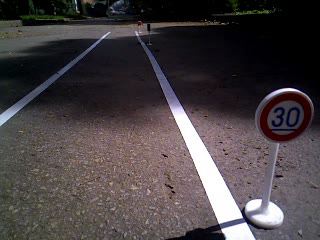limit 30: (251, 85, 317, 147)
